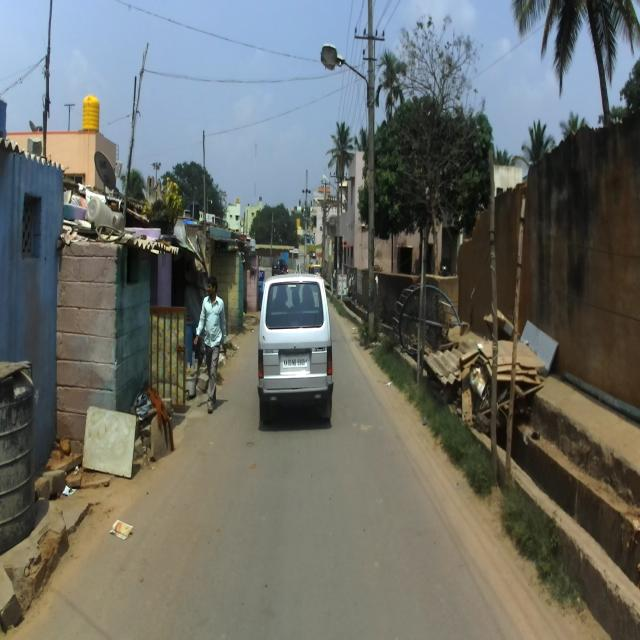car ahead at: (259, 269, 335, 431)
electric pole ahead at: (349, 1, 389, 344)
gate ahead at: (154, 309, 191, 407)
person ahead at: (196, 281, 228, 414)
